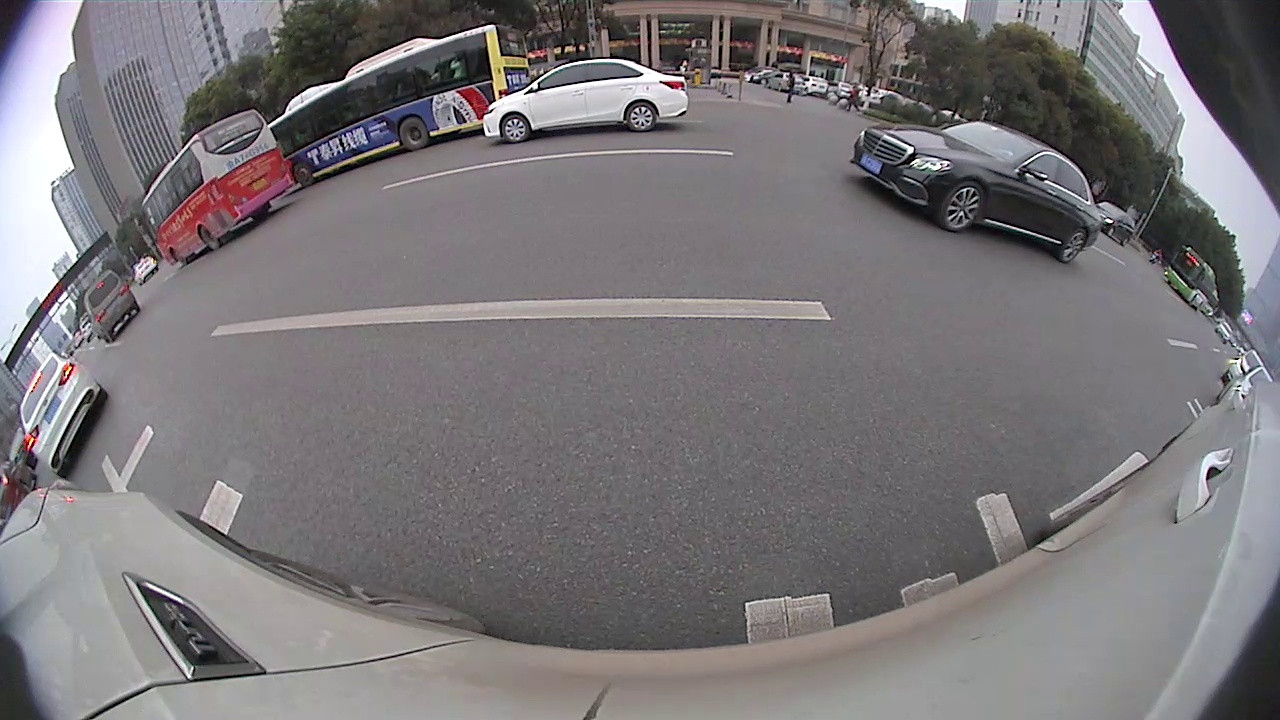bus: (267, 26, 532, 185), (140, 110, 288, 268)
car: (850, 123, 1100, 263), (482, 60, 693, 143), (19, 351, 107, 476), (84, 268, 141, 343)
front: (940, 183, 991, 230), (502, 113, 528, 145), (290, 161, 316, 186)
rear: (1059, 227, 1089, 264), (400, 115, 429, 151), (626, 101, 657, 133), (199, 224, 221, 252)
